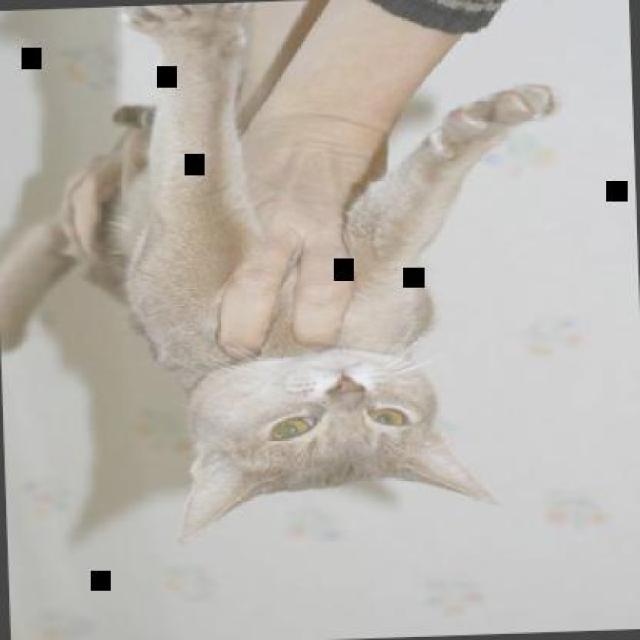cat: (0, 0, 577, 554)
